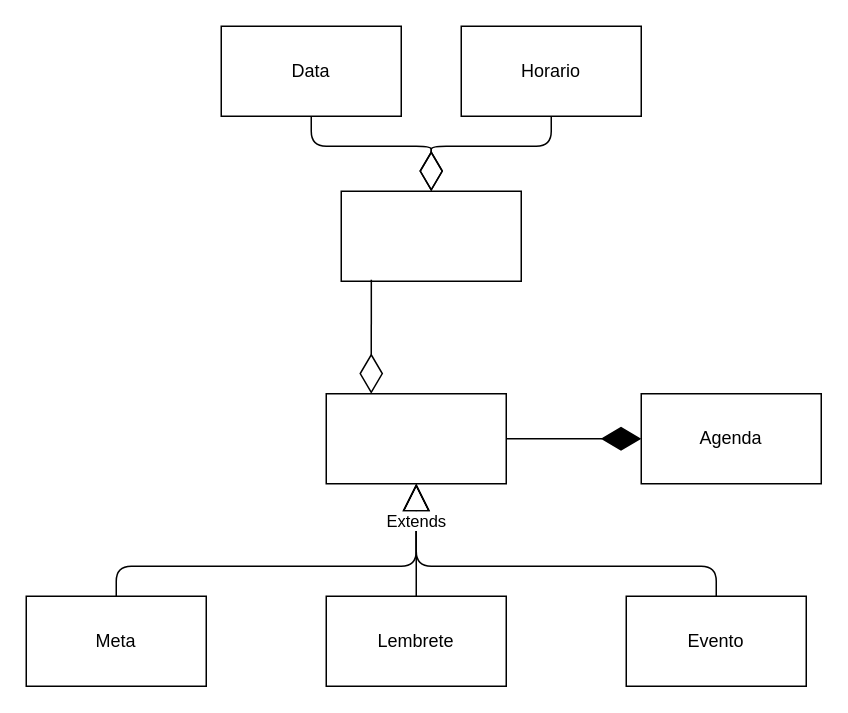
The diagram is 848 pixels wide and 713 high, and some of its shapes have lost their labels. Here are the shapes that lost their labels. From the top down, the centre of each, then its label:
At point 430,235: "Periodo".
At point 415,438: "ItemAgenda".
